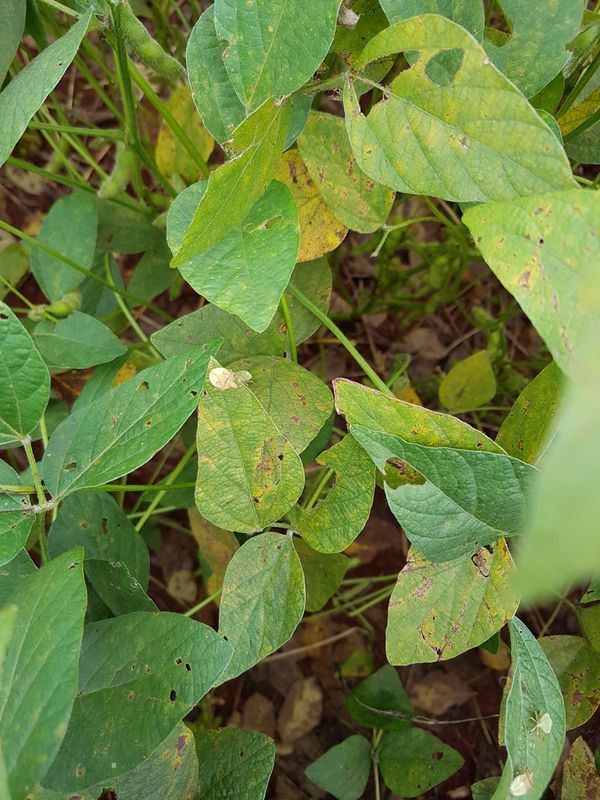Euschistus_heros_ninfa: (503, 765, 541, 800), (203, 364, 237, 396), (526, 707, 556, 740), (235, 366, 256, 388)
